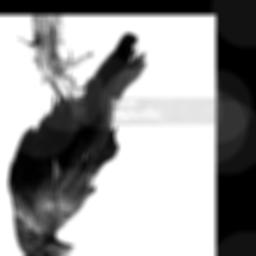Crow: (7, 31, 146, 256)
